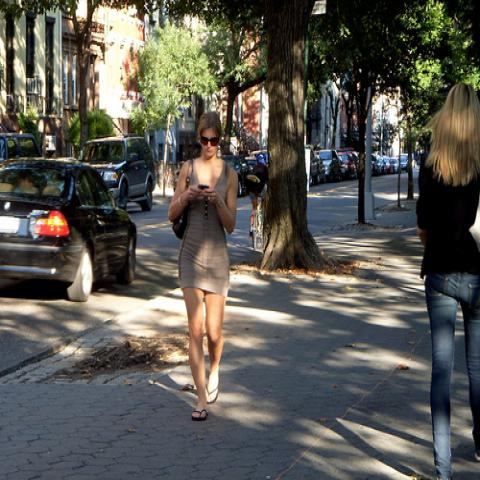car: (0, 156, 140, 308), (73, 136, 158, 214), (1, 130, 42, 158), (222, 156, 250, 196), (316, 149, 339, 183), (338, 151, 358, 180), (311, 154, 326, 184), (244, 150, 268, 166), (384, 157, 398, 173), (376, 155, 386, 175), (371, 154, 379, 176), (401, 154, 409, 170)
